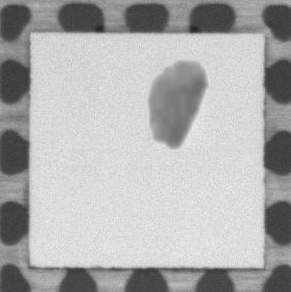DIE_INK: (144, 58, 211, 146)
